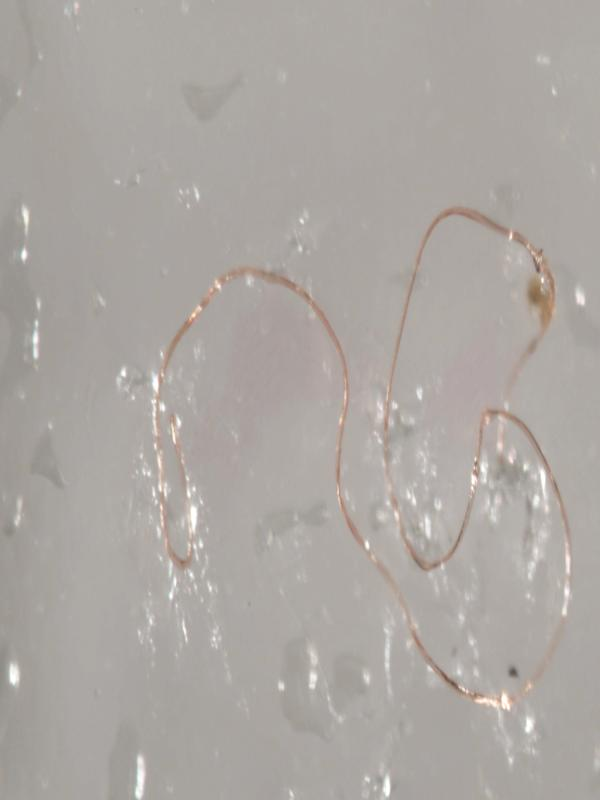microplastic: (152, 205, 572, 714)
